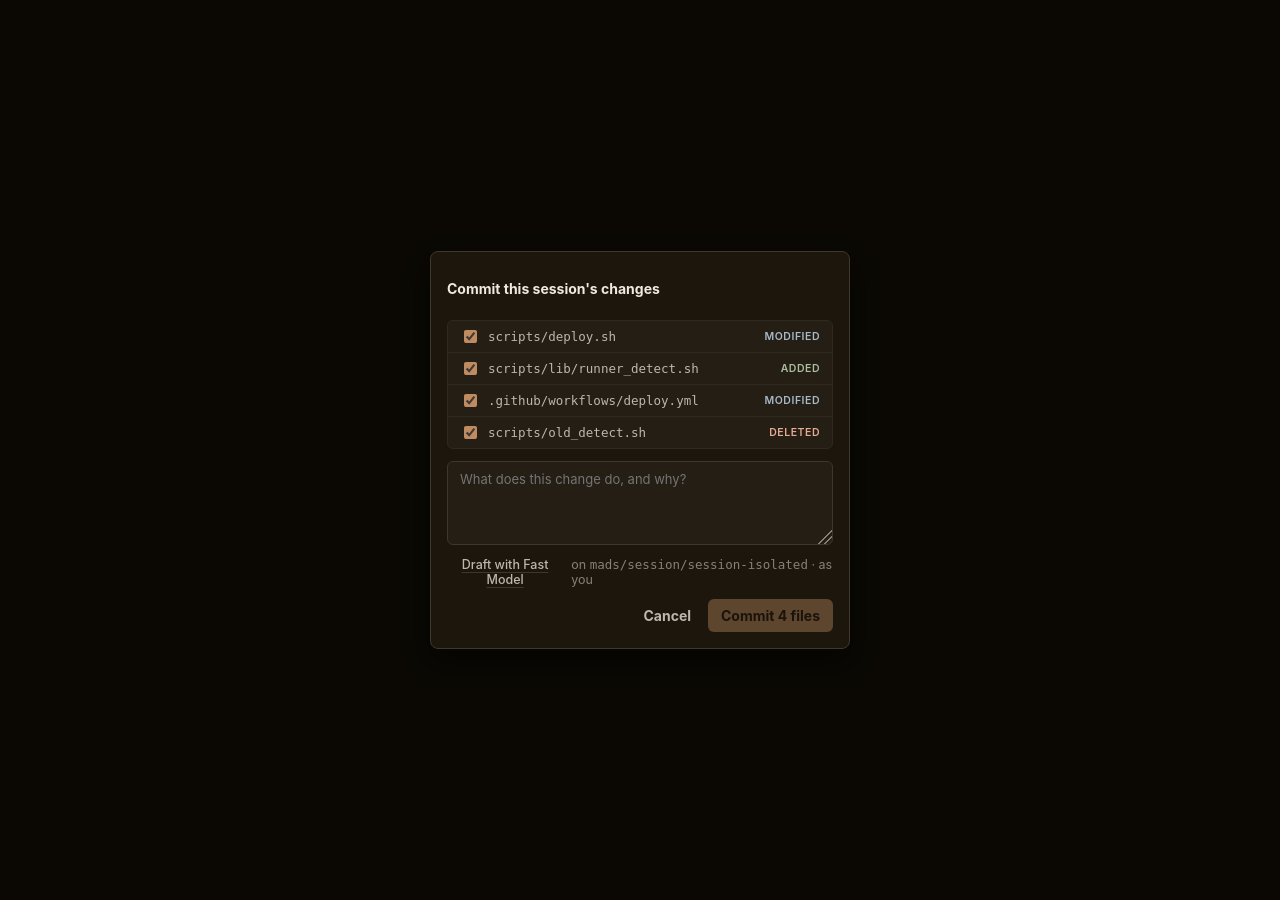
Test: CommitDialog (D5) › toggles a file out of the commit
Click the checkbox named "Include scripts/old_detect.sh": {"x": 470, "y": 433} [464,426,477,439]
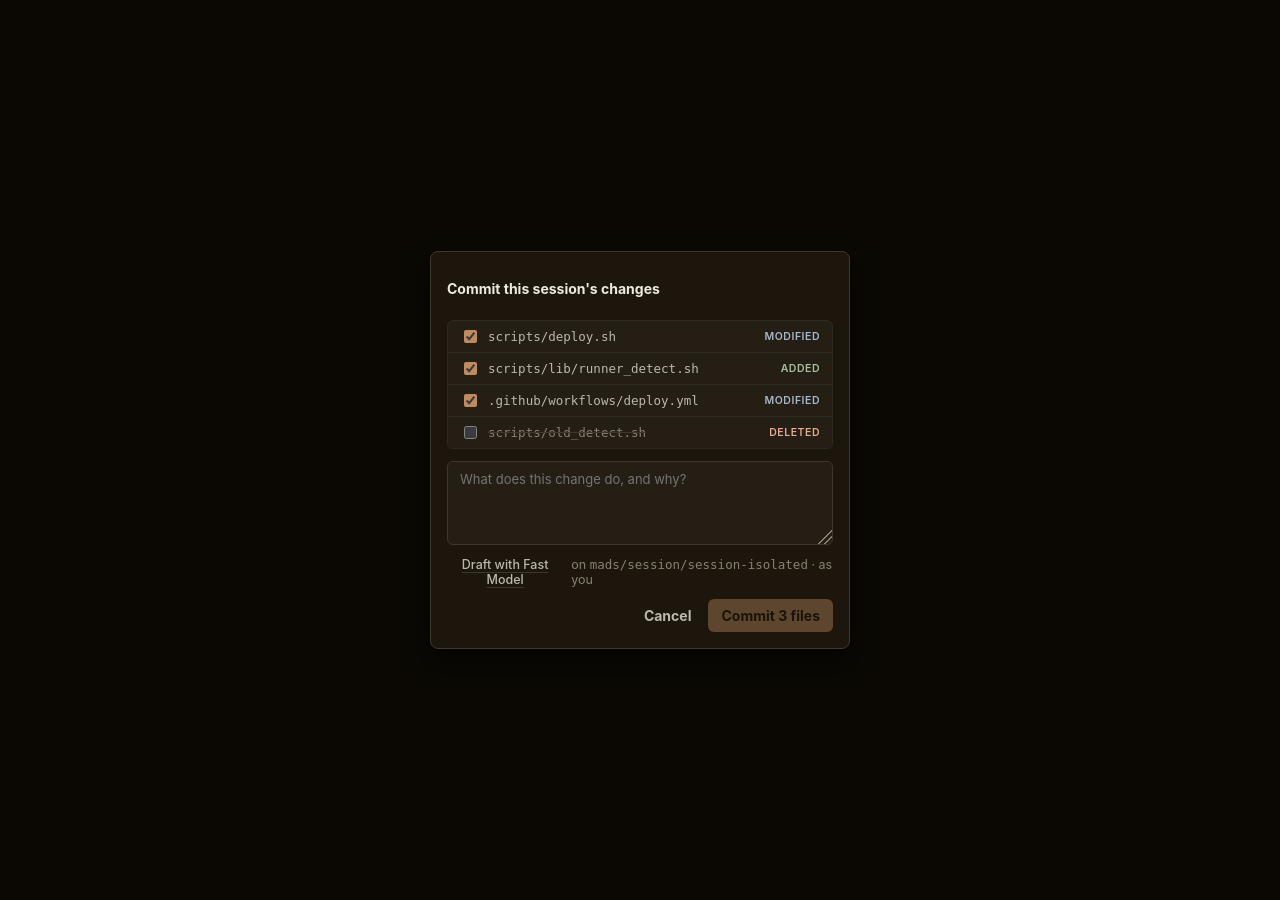
Expected: the button "Commit 3 files" is shown, [708,599,833,632]
